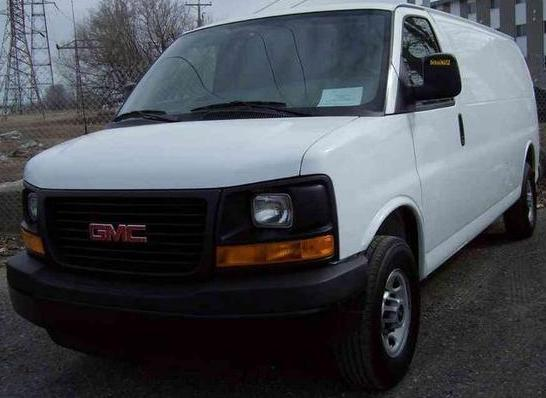front_view: (12, 177, 353, 330)
headlight: (197, 169, 337, 275)
side_glass: (398, 15, 501, 107)
